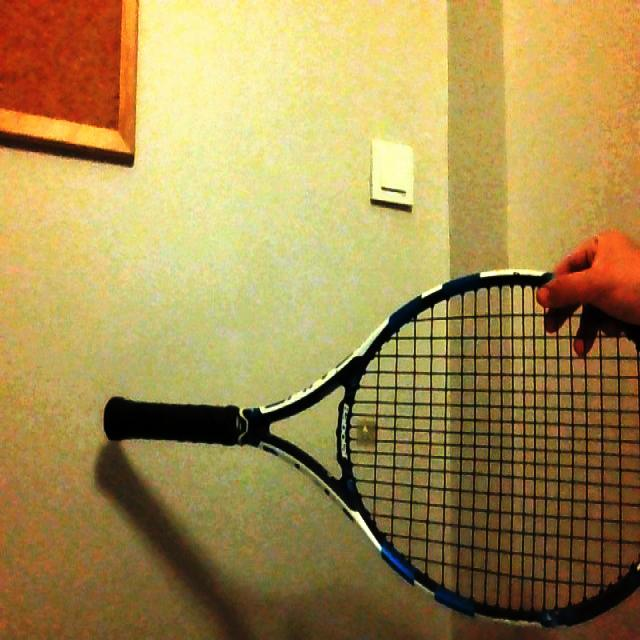TennisRacket: (114, 269, 640, 640)
